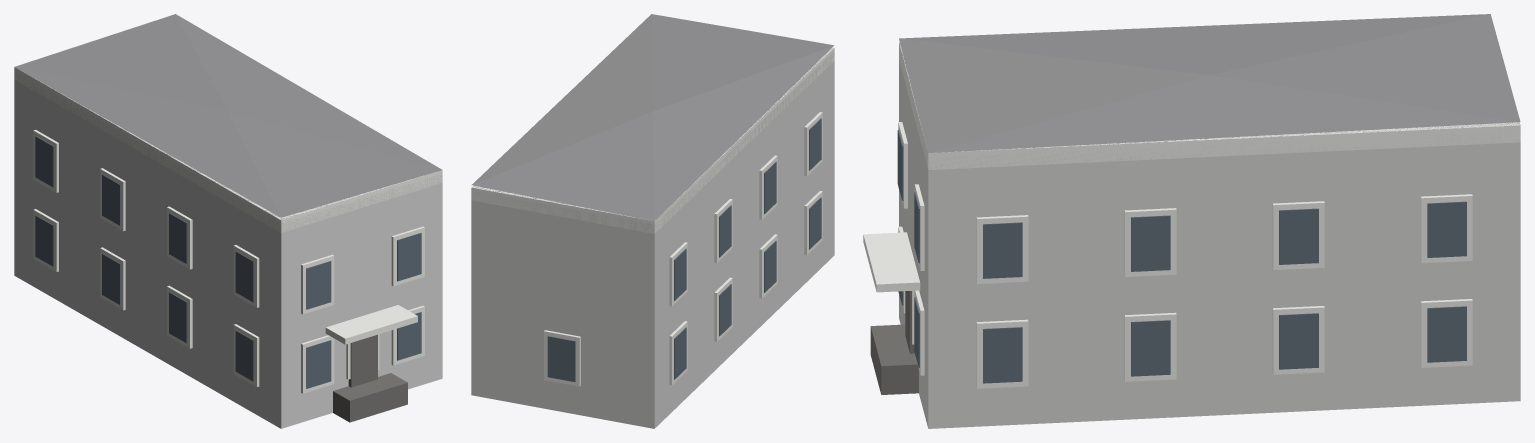
The model's file is d_162_elm.glb.
3 renders of one model, left to right at view 1: azimuth 30°, elevation 25°; view 2: azimuth 150°, elevation 25°; view 3: azimuth 270°, elevation 25°, orthographic. The views are drawn at different scales.
Visible parts, largest first — view 1: mass, roofcap, cornice, stoop162, porch162, door162, fgl_2.0_0.22, fgl_4.9_0.22, fgl_4.9_0.78, fgl_2.0_0.78, gl_3_2.0_3, gl_3_4.9_3 (+18 smaller); view 2: mass, roofcap, cornice, gl_2_2.0_0, frm_2_2.0_0, gl_3_2.0_0, gl_3_4.9_3, gl_3_4.9_0, gl_3_2.0_2, gl_3_2.0_3, gl_3_4.9_1, gl_3_4.9_2 (+9 smaller); view 3: mass, roofcap, cornice, stoop162, porch162, gl_1_2.0_0, gl_1_2.0_2, gl_1_2.0_3, gl_1_4.9_0, gl_1_4.9_1, gl_1_2.0_1, gl_1_4.9_2 (+9 smaller).
Part boxes in pixels (box(x1,y1,x2,y2)): mass: box(14, 71, 442, 428); roofcap: box(15, 14, 441, 219); cornice: box(14, 67, 442, 232); stoop162: box(333, 373, 407, 422); porch162: box(325, 305, 417, 344); door162: box(348, 334, 377, 387); fgl_2.0_0.22: box(306, 340, 331, 388); fgl_4.9_0.22: box(306, 261, 331, 309); fgl_4.9_0.78: box(397, 233, 421, 281); fgl_2.0_0.78: box(397, 312, 421, 360); gl_3_2.0_3: box(235, 330, 254, 381); gl_3_4.9_3: box(235, 251, 254, 302); mass: box(471, 51, 834, 428); roofcap: box(471, 14, 833, 221); cornice: box(471, 47, 834, 233); gl_2_2.0_0: box(547, 336, 575, 381); frm_2_2.0_0: box(544, 330, 580, 386); gl_3_2.0_0: box(674, 327, 686, 379); gl_3_4.9_3: box(809, 118, 821, 170); gl_3_4.9_0: box(674, 248, 686, 300); gl_3_2.0_2: box(764, 240, 776, 292); gl_3_2.0_3: box(809, 197, 821, 249); gl_3_4.9_1: box(719, 205, 731, 257); gl_3_4.9_2: box(764, 161, 776, 214); mass: box(899, 58, 1520, 428); roofcap: box(899, 14, 1520, 153); cornice: box(899, 41, 1520, 169); stoop162: box(870, 324, 918, 394); porch162: box(863, 232, 920, 292); gl_1_2.0_0: box(983, 327, 1022, 383); gl_1_2.0_2: box(1279, 313, 1318, 369); gl_1_2.0_3: box(1427, 306, 1466, 362); gl_1_4.9_0: box(983, 222, 1022, 278); gl_1_4.9_1: box(1131, 215, 1170, 271); gl_1_2.0_1: box(1131, 320, 1170, 376); gl_1_4.9_2: box(1279, 208, 1318, 264).
Size of the model in its own units: 8.27 by 7.87 by 16.5.
